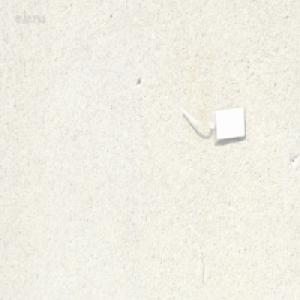LuggageTag: (177, 101, 247, 143)
